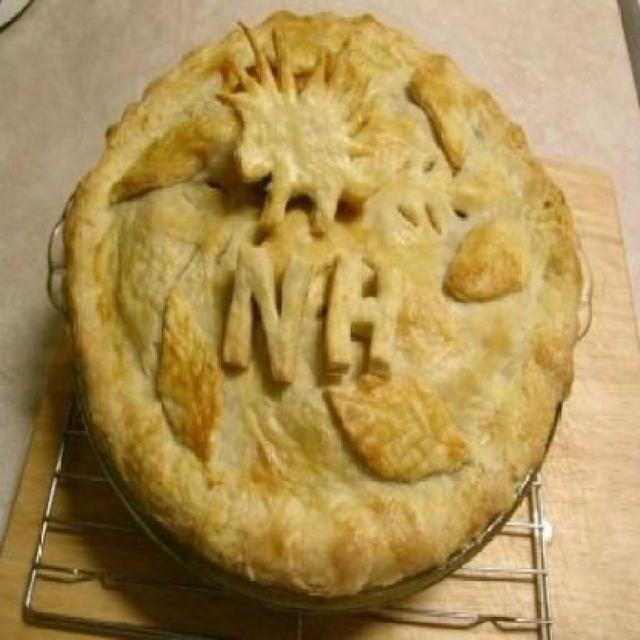Apple: (60, 2, 582, 598)
